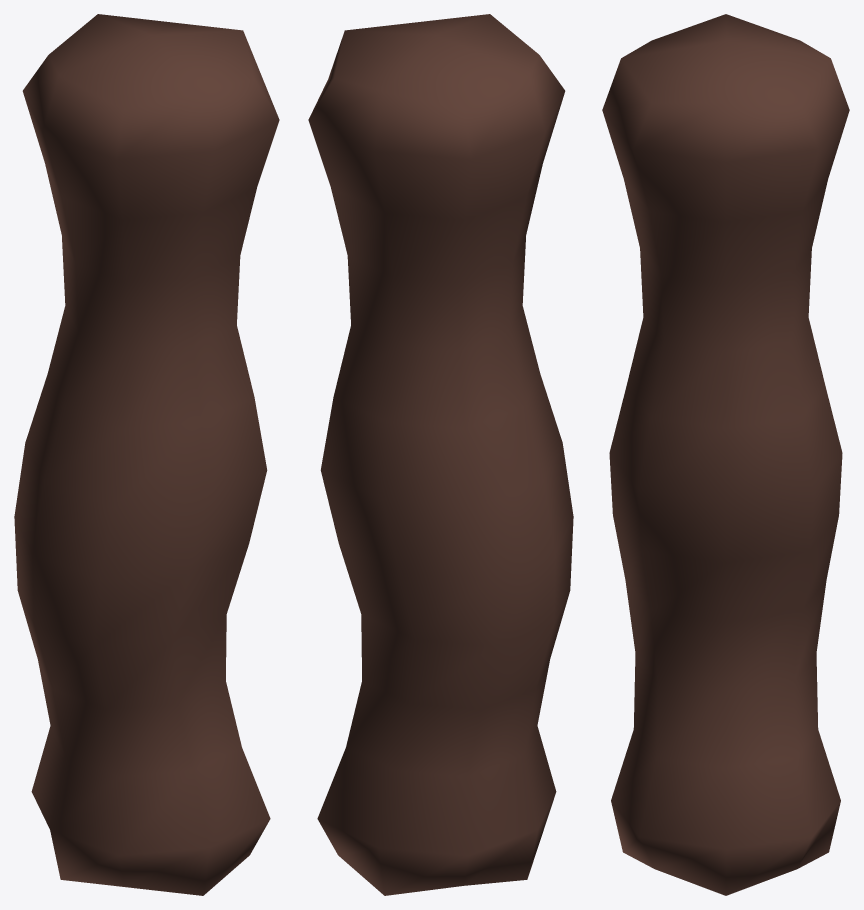
The model's file is DeadReef.fbx.
The picture shows the model from 3 angles, left to right: view 1: azimuth 30°, elevation 25°; view 2: azimuth 150°, elevation 25°; view 3: azimuth 270°, elevation 25°; orthographic projection.
Parts seen in each view (by area): view 1: DeadReef; view 2: DeadReef; view 3: DeadReef.
Boxes of the visible parts, bbox=[...] form: DeadReef: bbox=[14, 14, 279, 895]; DeadReef: bbox=[308, 14, 573, 895]; DeadReef: bbox=[602, 14, 849, 895].
Bounding box in the file's own units: 128 × 452 × 122.
